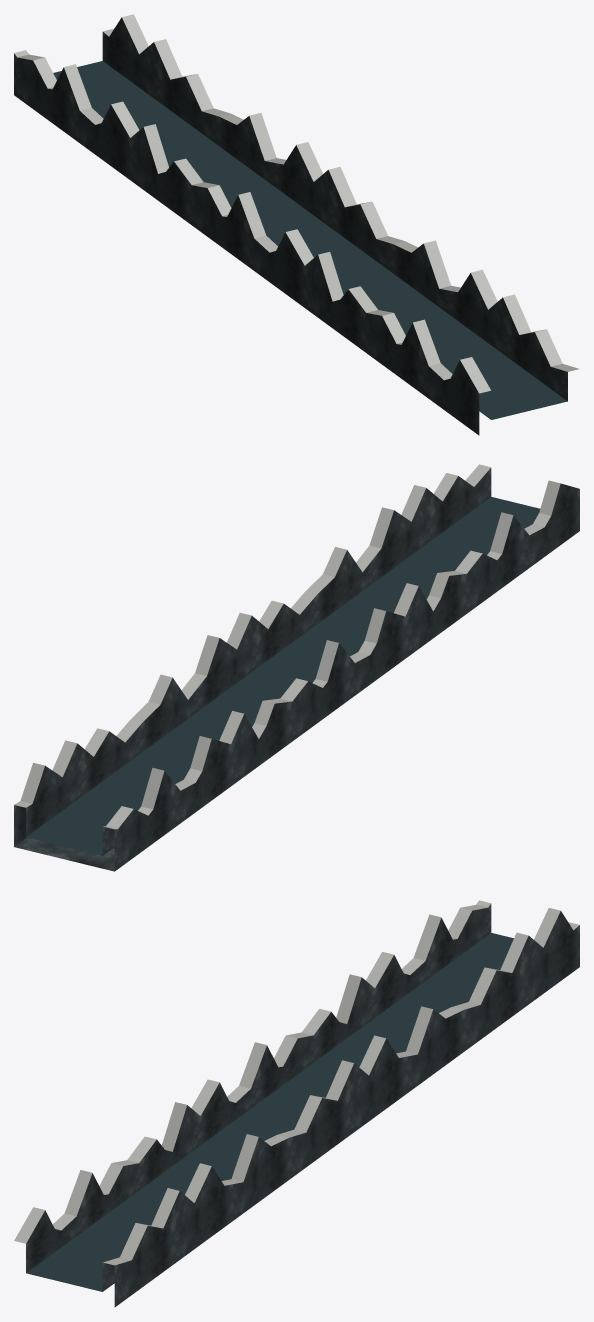
The model's file is OT_046_broken_wall_deco_var4.glb.
3 renders of one model, top to bottom at view 1: azimuth 30°, elevation 25°; view 2: azimuth 150°, elevation 25°; view 3: azimuth 330°, elevation 25°, orthographic.
Visible parts, largest first — view 1: broken_wall.001, broken_wall.002, broken_wall; view 2: broken_wall.002, broken_wall.001, broken_wall; view 3: broken_wall.001, broken_wall.002, broken_wall.
Boxes of the visible parts, left/top/right/bottom form: broken_wall.001: left=304, top=240, right=578, bottom=435; broken_wall.002: left=130, top=113, right=404, bottom=307; broken_wall: left=14, top=14, right=230, bottom=179; broken_wall.002: left=130, top=592, right=405, bottom=786; broken_wall.001: left=305, top=464, right=579, bottom=658; broken_wall: left=14, top=720, right=230, bottom=871; broken_wall.001: left=14, top=1102, right=289, bottom=1307; broken_wall.002: left=191, top=974, right=463, bottom=1179; broken_wall: left=366, top=900, right=579, bottom=1051.
Size of the model in its own units: 0.75 by 0.5008 by 6.
6 materials, 2 textured.
